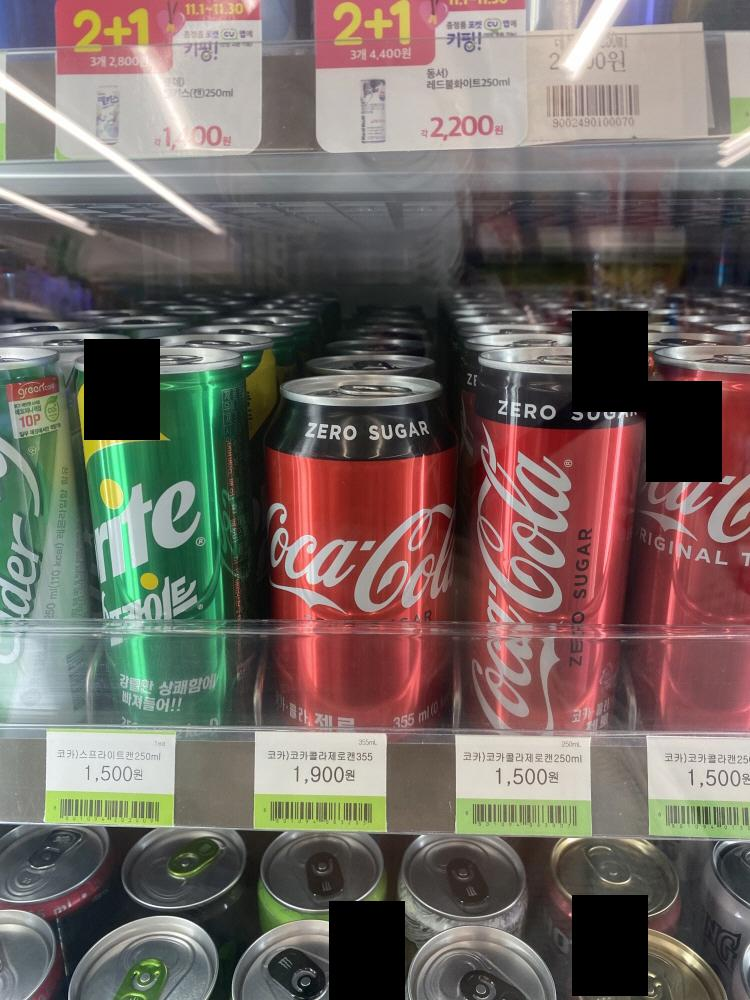cocacola_zero: (271, 373, 437, 733)
